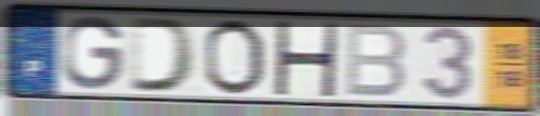3: (420, 23, 476, 103)
B: (343, 22, 409, 100)
D: (126, 15, 200, 95)
G: (59, 14, 127, 92)
H: (270, 19, 341, 99)
O: (201, 17, 268, 97)
